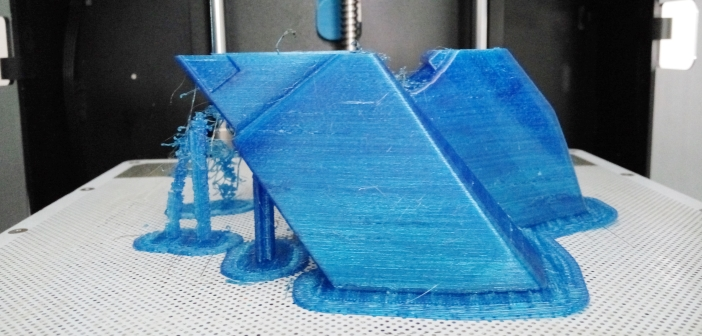3dpripples: (415, 228, 491, 270), (320, 226, 379, 268), (234, 91, 268, 115)
3dpstringing: (208, 152, 247, 210), (355, 174, 396, 212), (165, 139, 192, 187), (176, 91, 209, 129), (394, 62, 426, 97), (264, 30, 304, 57), (403, 281, 443, 307)
